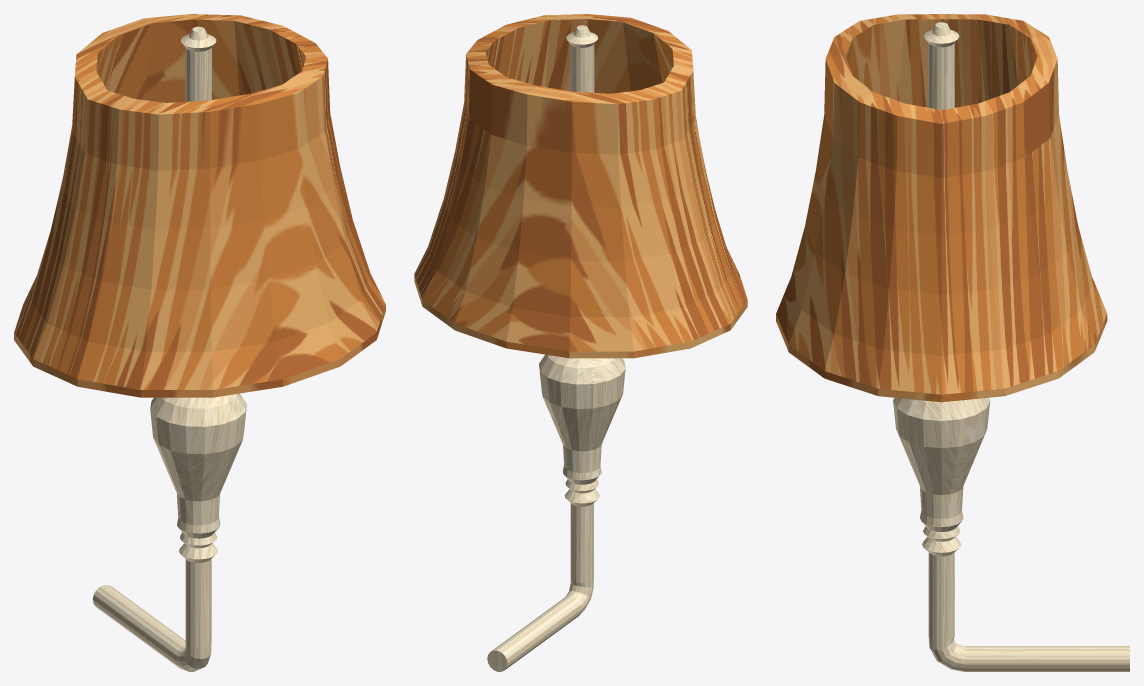
Rendered from lampara2.fbx.
3 renders of one model, left to right at view 1: azimuth 30°, elevation 25°; view 2: azimuth 150°, elevation 25°; view 3: azimuth 270°, elevation 25°, orthographic. The views are drawn at different scales.
Parts seen in each view (by area): view 1: Cilindro.001; view 2: Cilindro.001; view 3: Cilindro.001.
Part boxes in pixels (bbox=[...]): Cilindro.001: bbox=[14, 14, 385, 671]; Cilindro.001: bbox=[414, 14, 747, 671]; Cilindro.001: bbox=[776, 14, 1129, 671].
Size of the model in its own units: 493 by 916 by 455.
